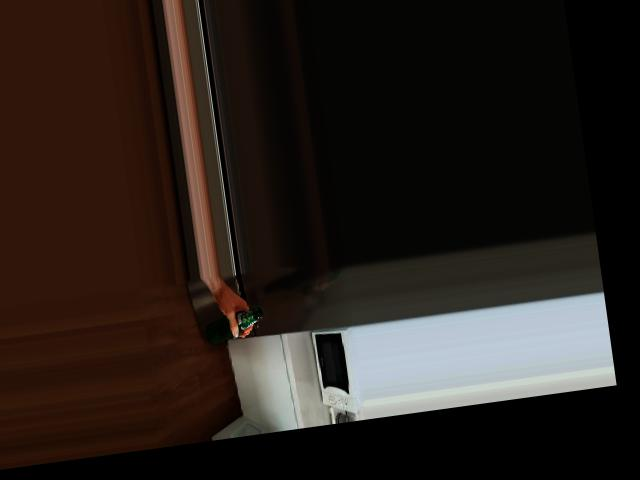beer: (202, 306, 265, 345)
